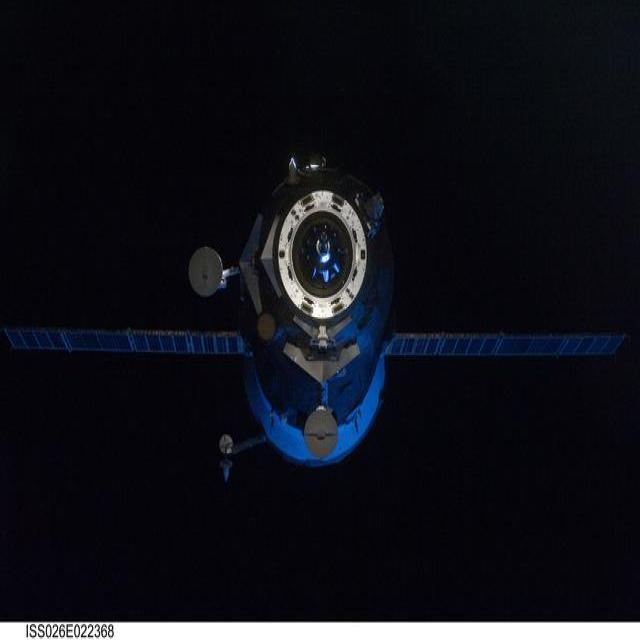satellite: (4, 159, 625, 470)
